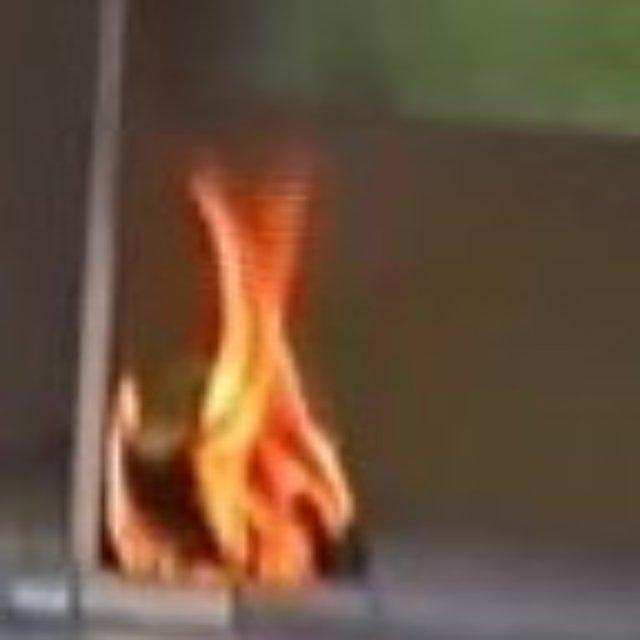Fire: (175, 174, 345, 588)
